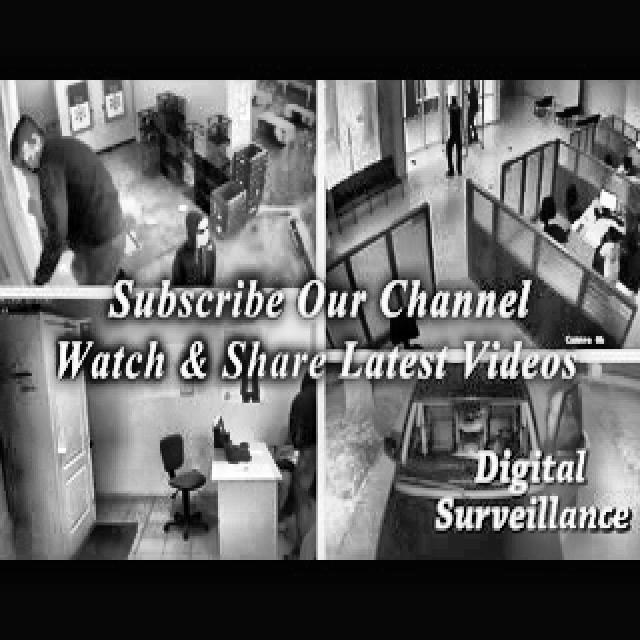burglary: (6, 110, 131, 287), (167, 204, 223, 287)
